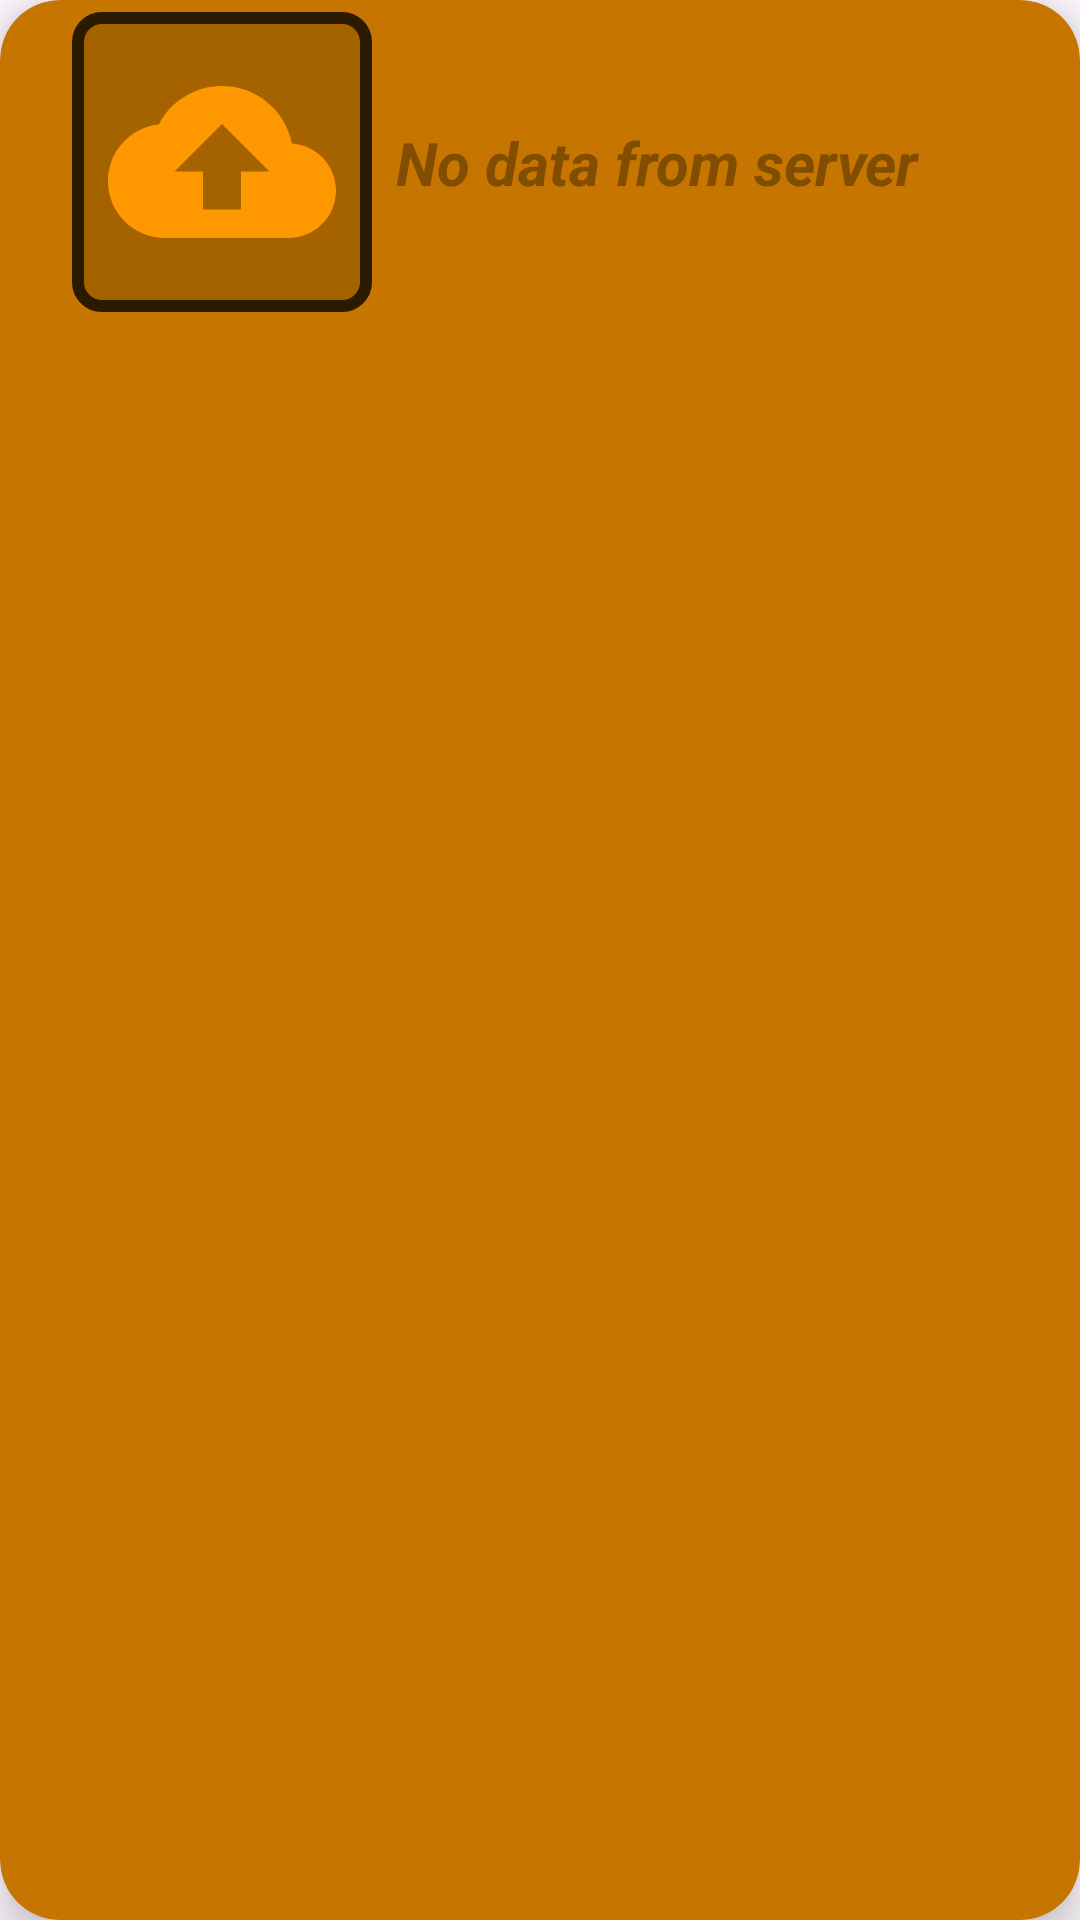

Screen size 1080px×1920px. Icon name, then its center in pixels as (x,y):
upload: (222,162)
